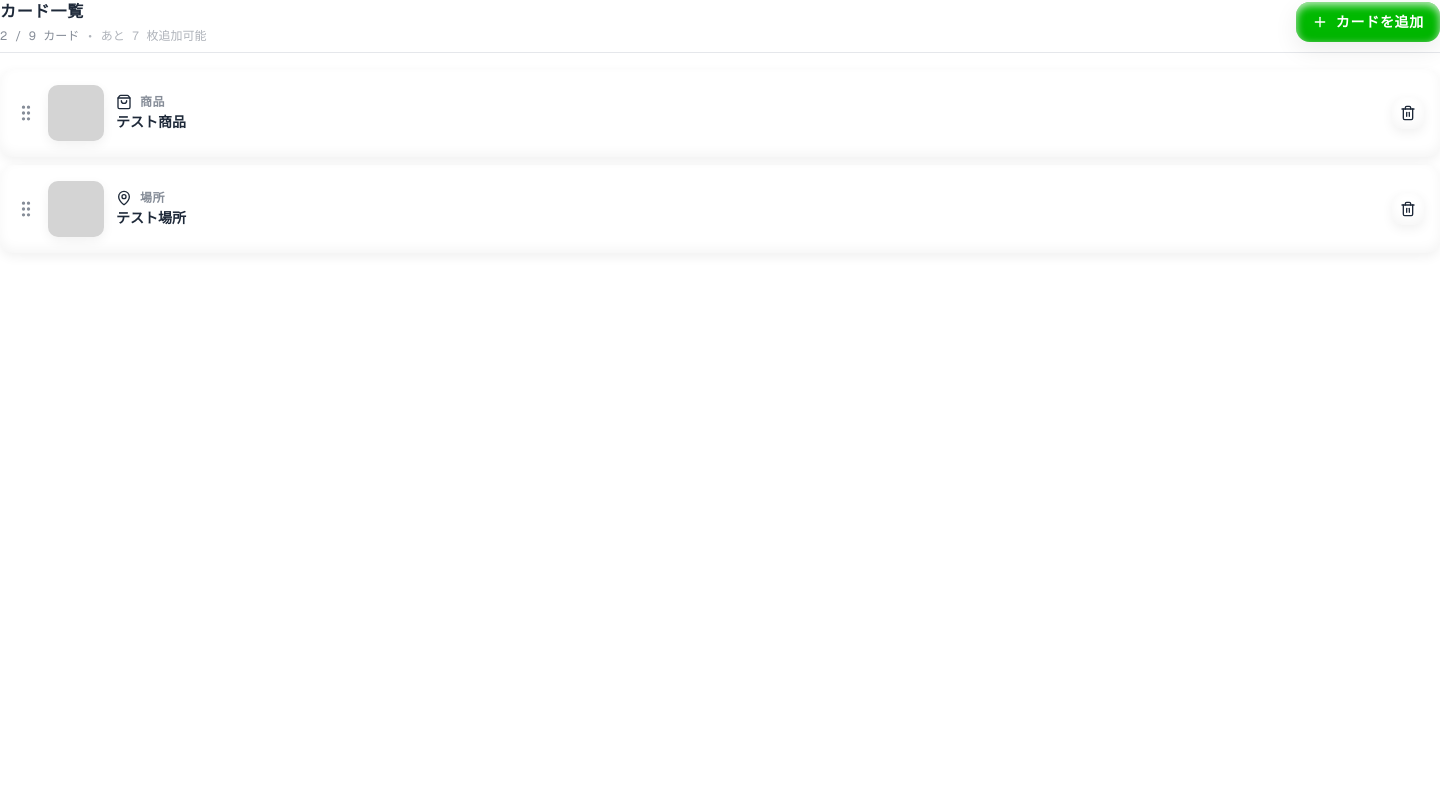
Test: CardList › should close dialog when cancel is clicked
// Click delete button
Click the button named "カードを削除" in the row of "テスト商品" at (1408, 113), box [1392, 97, 1424, 129]
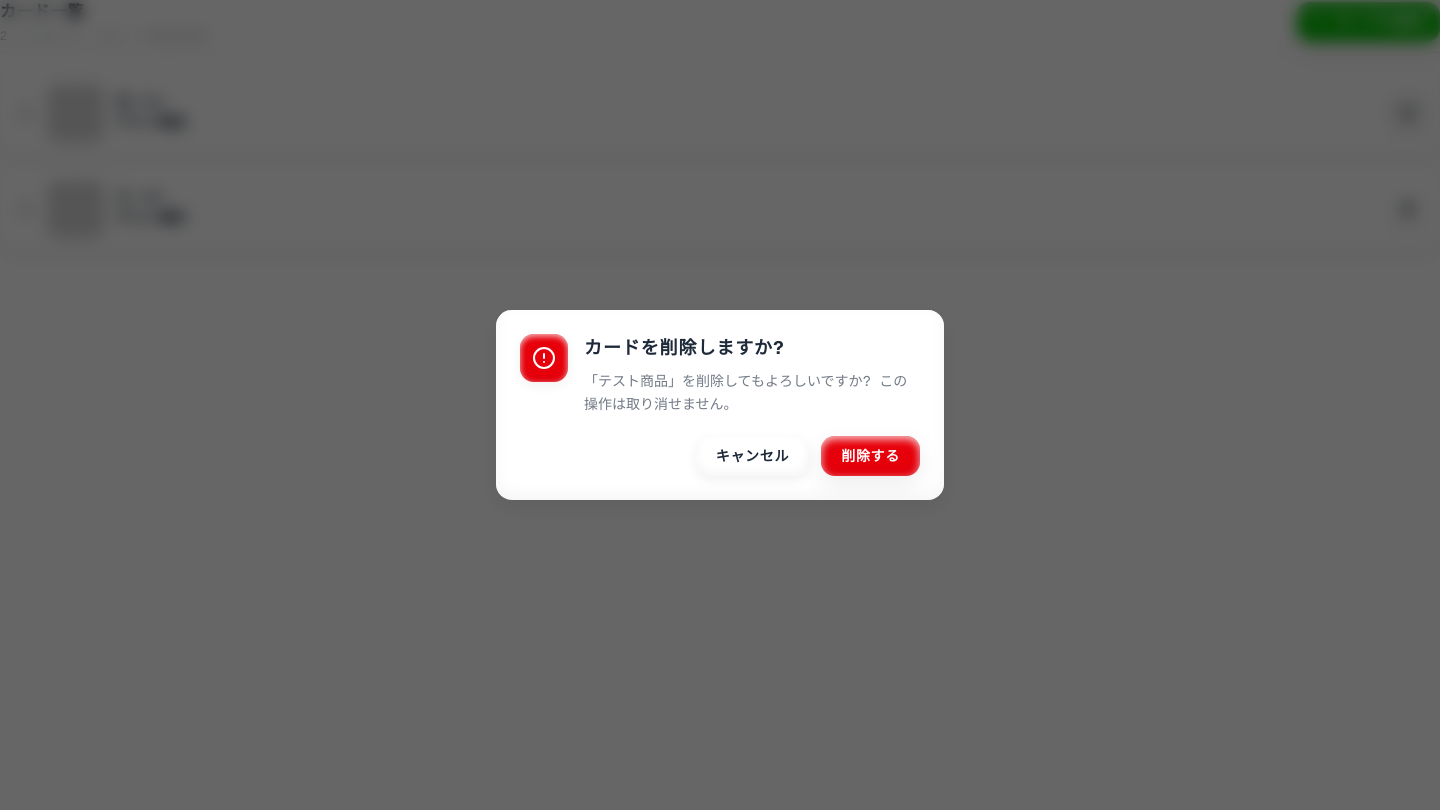
// Click cancel
Click the button "キャンセル" at (752, 456), box [696, 436, 809, 476]
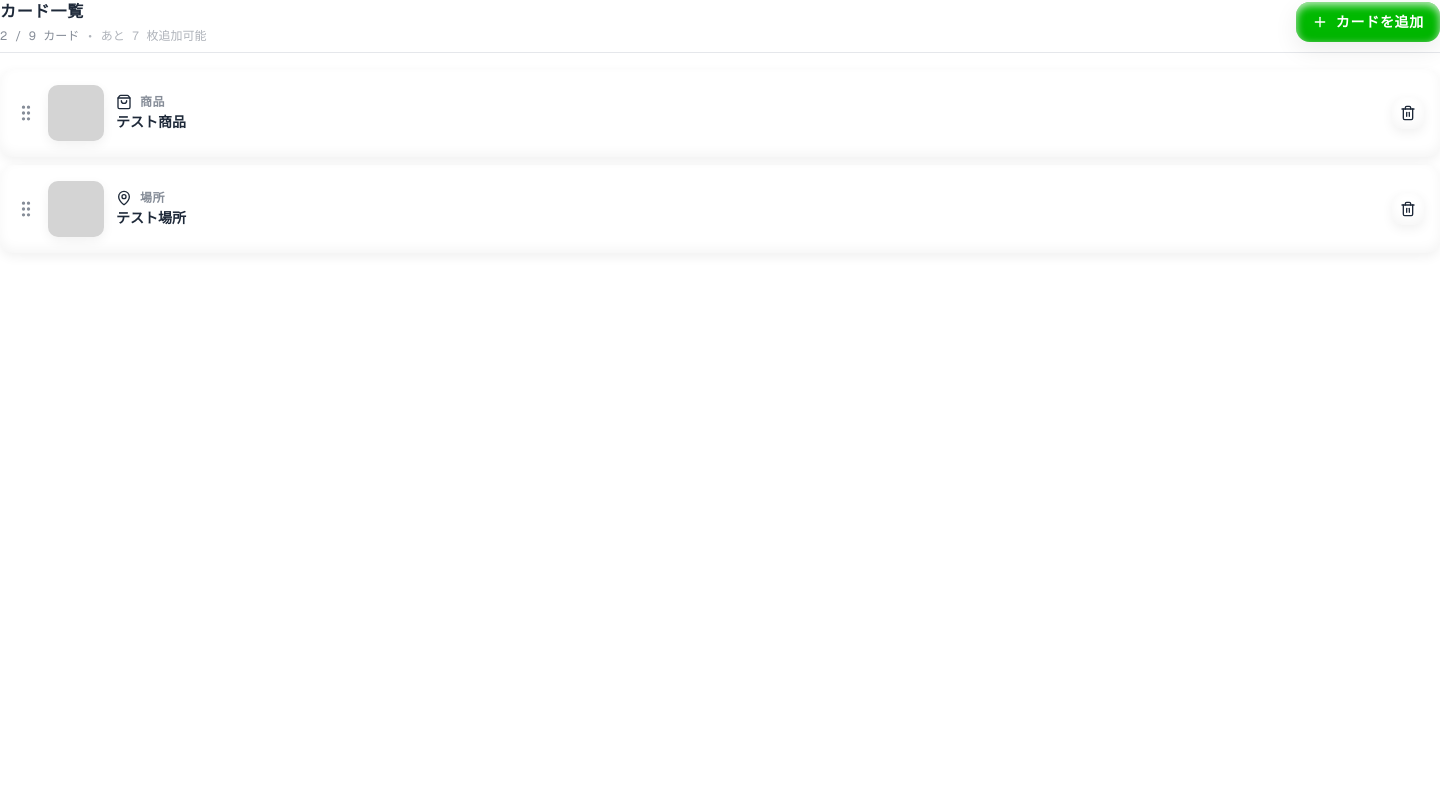
expect the heading "カードを削除しますか?" is gone: met
